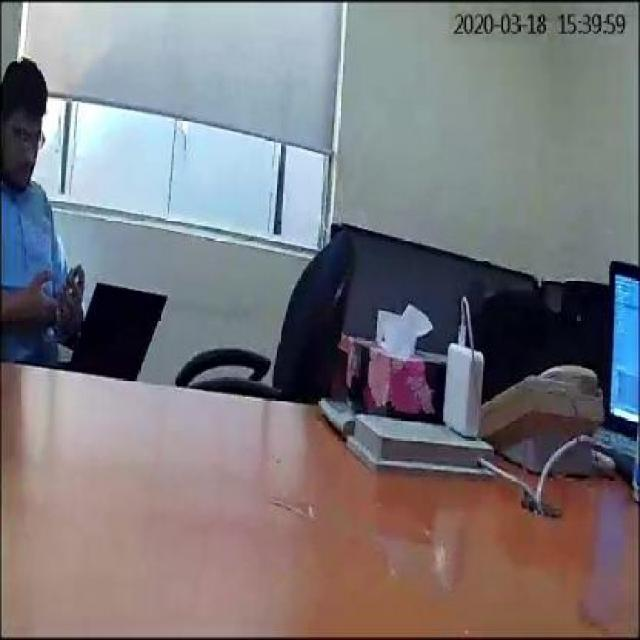spill: (342, 523, 460, 605)
